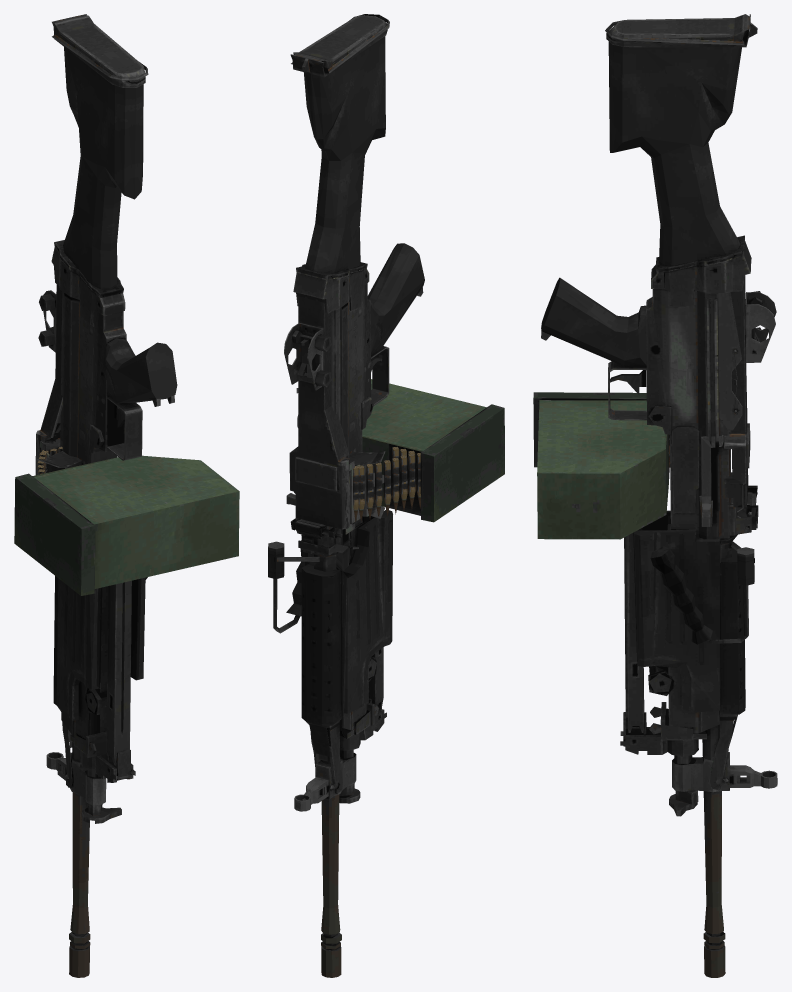
File: w_mach_m249.obj
3 renders of one model, left to right at view 1: azimuth 30°, elevation 25°; view 2: azimuth 150°, elevation 25°; view 3: azimuth 270°, elevation 25°, orthographic. The views are drawn at different scales.
Bounding box in the file's own units: 0.085 × 0.4727 × 0.1095.
1 material, 1 textured.
